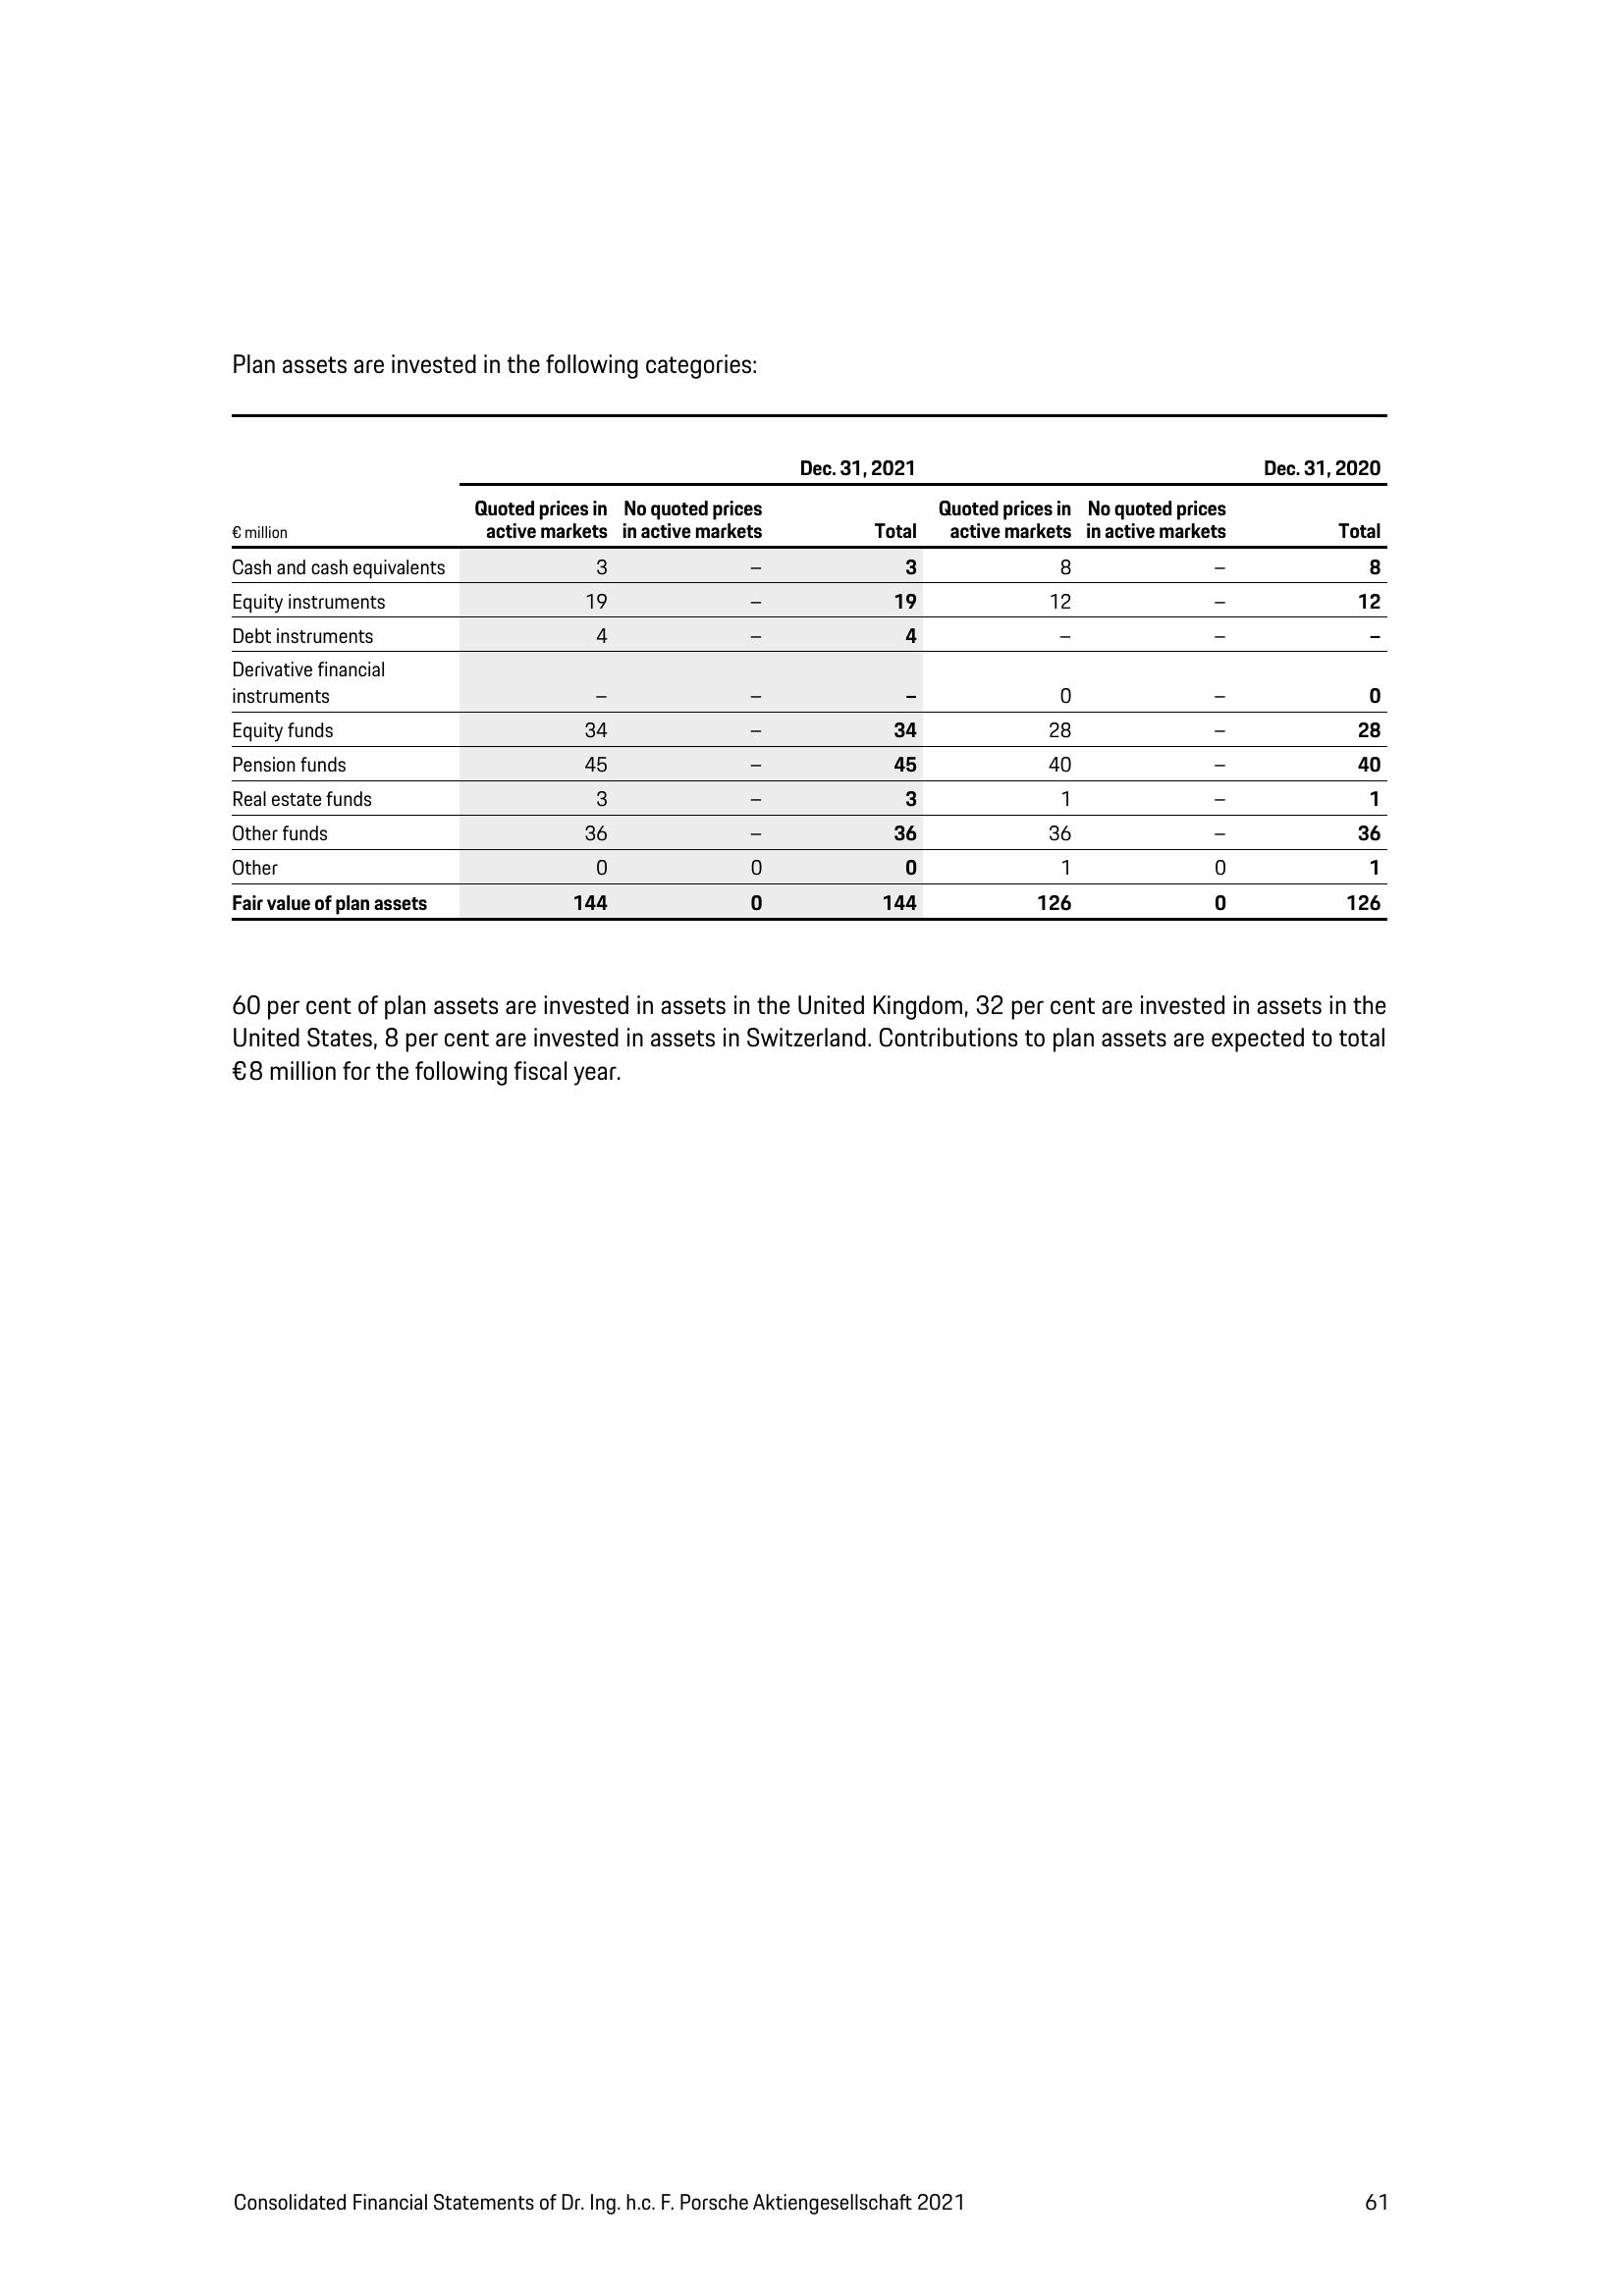Footer: (0, 2131, 1624, 2296)
Header: (0, 0, 1624, 202)
Table: (178, 411, 1452, 922)
